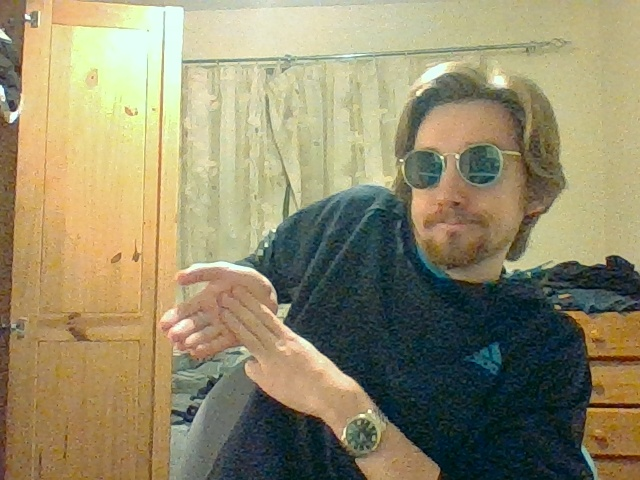mother: (160, 261, 283, 360)
